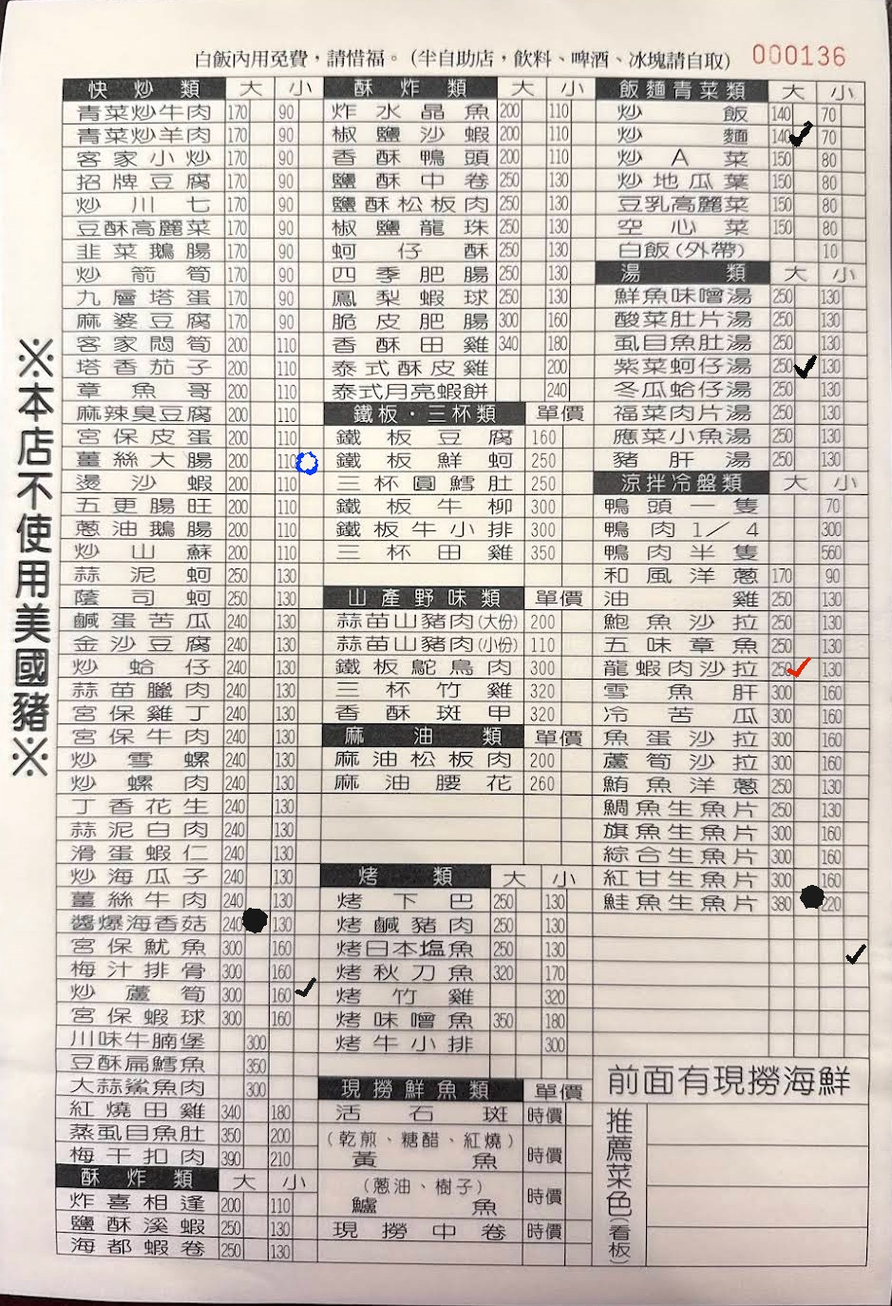marked_circle: (793, 892, 819, 914), (243, 911, 269, 933)
marked_hollow: (297, 450, 323, 472)
marked_tick: (795, 659, 821, 682), (843, 938, 868, 961), (293, 983, 318, 1006), (794, 354, 820, 376), (792, 125, 818, 147)
